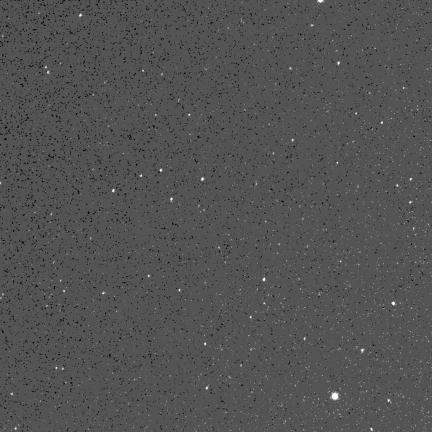blob: (332, 392, 338, 400), (201, 177, 205, 182), (112, 189, 116, 193), (160, 169, 163, 173), (263, 278, 266, 282), (206, 387, 209, 390), (410, 178, 413, 181), (392, 302, 395, 305), (204, 343, 207, 346), (381, 122, 384, 125), (397, 184, 399, 188)
